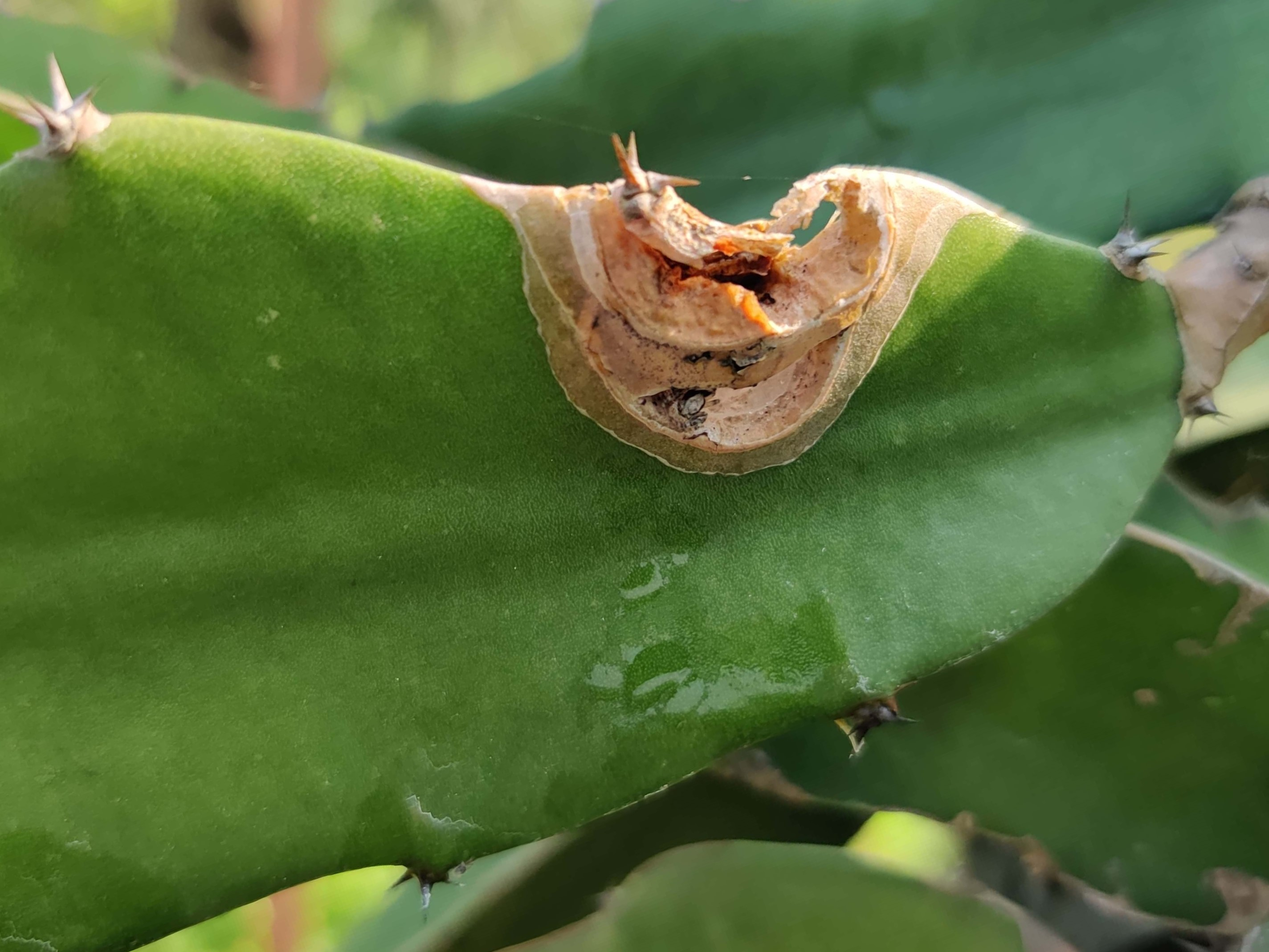stemcanker: (457, 161, 983, 474)
